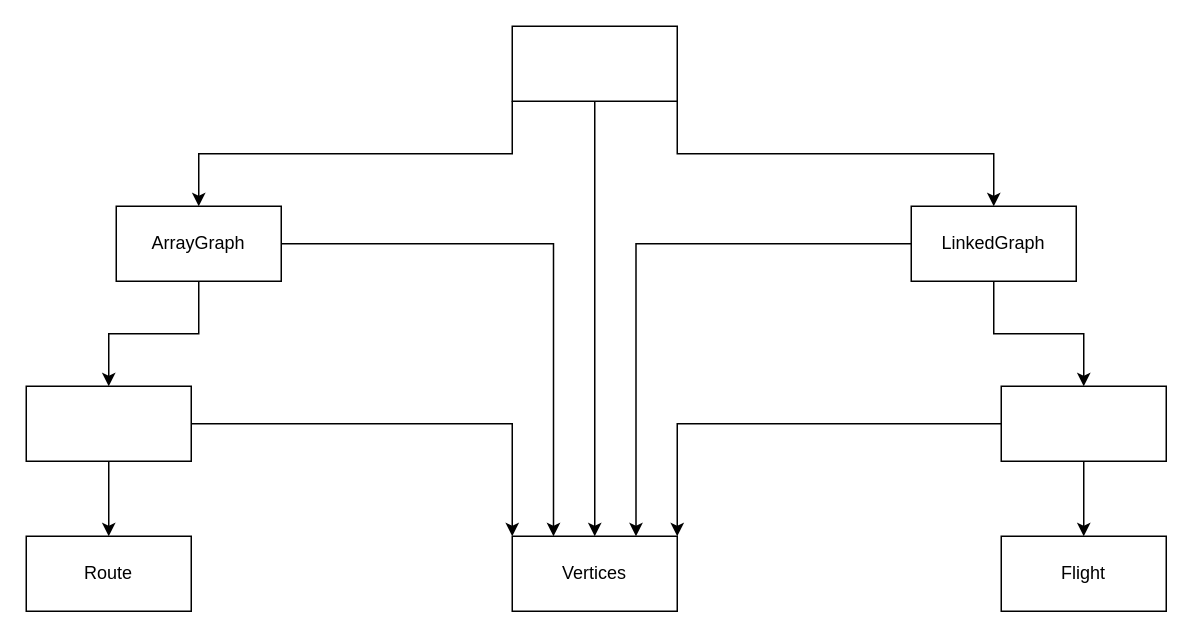
Some shapes in this 1193 by 638 pixel diagram are drawn without their labels. Each missing label, with the centre of its shape:
AirNetwork: (594,63)
ArrayList: (1083,423)
HashMap: (108,423)
